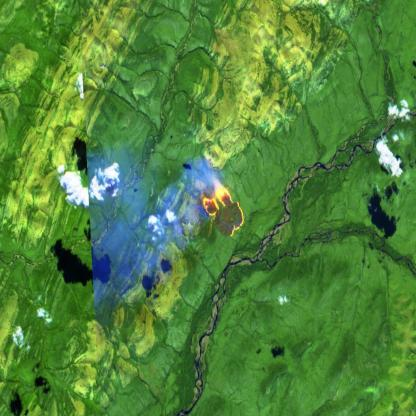fire: (200, 176, 247, 242)
